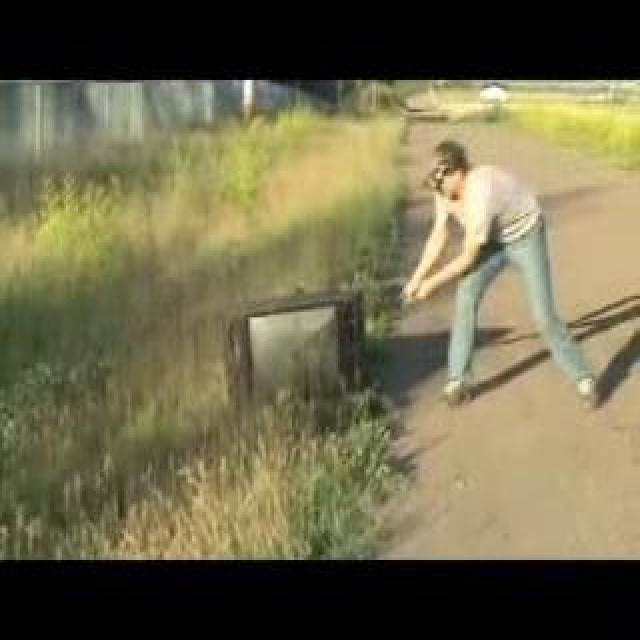fight: (248, 139, 640, 424)
